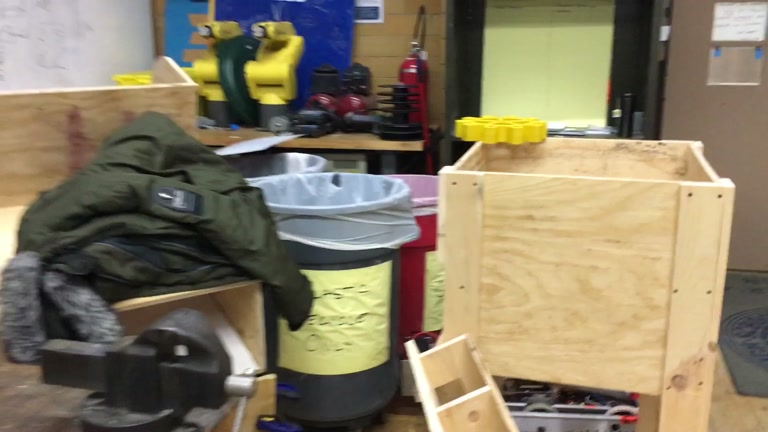gear: (454, 115, 547, 146)
